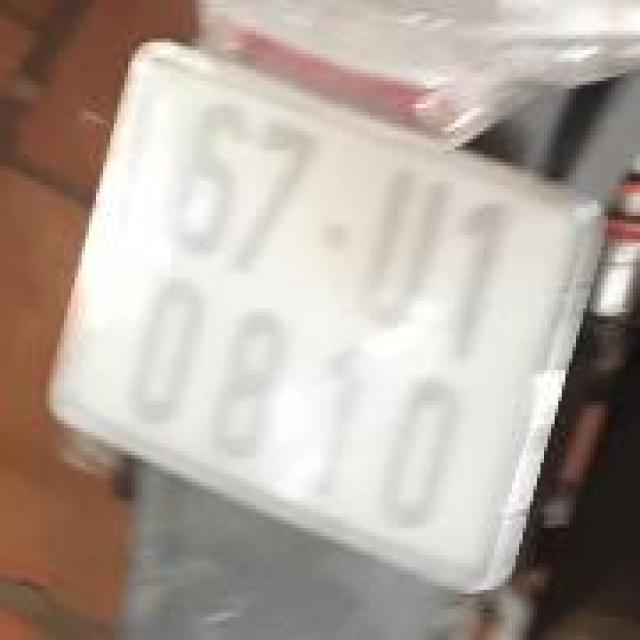0: (101, 261, 233, 446), (358, 360, 464, 542)
1: (275, 330, 389, 526), (429, 180, 523, 359)
6: (158, 92, 257, 271)
7: (215, 109, 326, 292)
8: (193, 291, 322, 483)
U: (344, 146, 456, 332)
